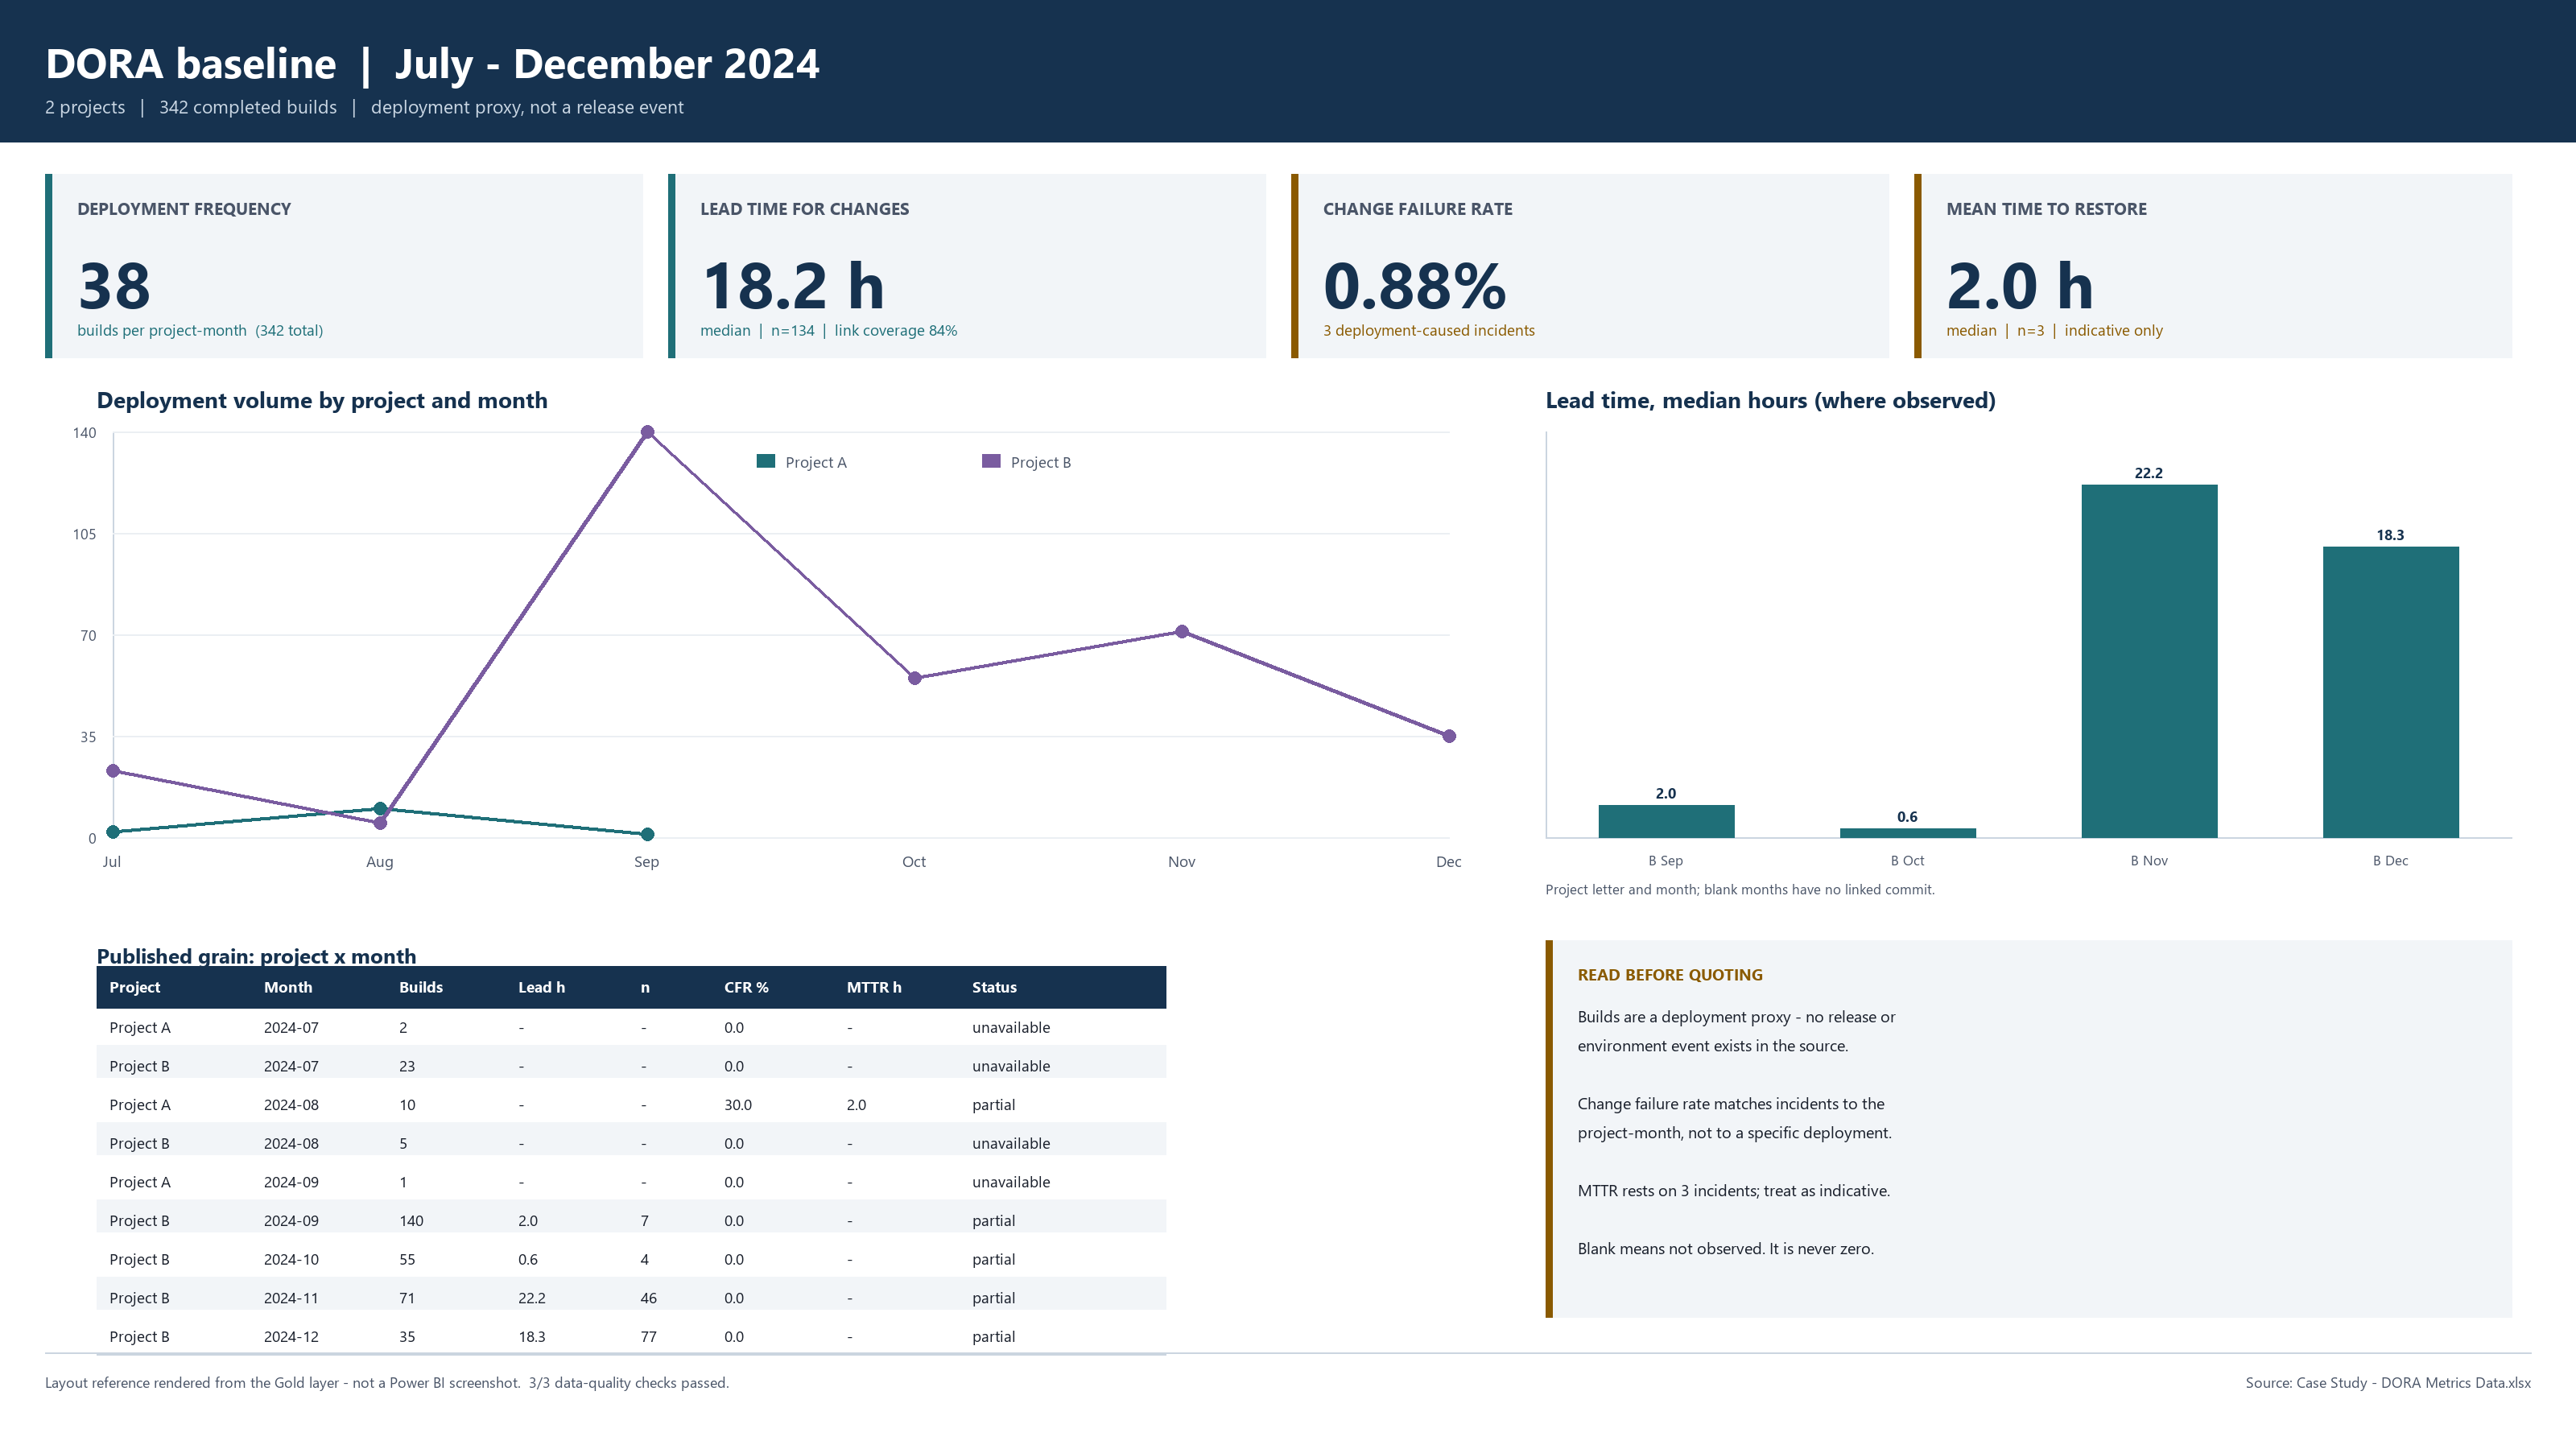

This screenshot's page, from the dashboard's own definition file:
{"tool":"powerbi","page":{"name":"DORA baseline","canvas":[1920,1080],"ordinal":0},"visuals":[{"type":"textbox","box":[0,0,1920,105],"z":0},{"type":"textbox","box":[30,16,1350,46],"z":1},{"type":"textbox","box":[30,62,1860,34],"z":2},{"type":"card","fields":{"Values":["DoraServiceMonth.Deployment Frequency (per project-month)"]},"box":[30,123,453,144],"z":10},{"type":"card","fields":{"Values":["DoraServiceMonth.Lead Time for Changes (median h)"]},"box":[489,123,453,144],"z":11},{"type":"card","fields":{"Values":["DoraServiceMonth.Change Failure Rate %"]},"box":[948,123,453,144],"z":12},{"type":"card","fields":{"Values":["DoraServiceMonth.MTTR (median h)"]},"box":[1407,123,453,144],"z":13},{"type":"lineChart","title":"Deployment volume by project and month","fields":{"Category":["DoraServiceMonth.month_start"],"Series":["DoraServiceMonth.project_name"],"Y":["DoraServiceMonth.Deployments"]},"box":[30,288,1050,288],"z":20},{"type":"columnChart","title":"Lead time, median hours (where observed)","fields":{"Category":["FactCommitLink.reporting_month"],"Y":["DoraServiceMonth.Lead Time for Changes (median h)"]},"box":[1104,288,786,288],"z":21},{"type":"tableEx","title":"Published grain: project x month (page 2 has every column)","fields":{"Values":["DoraServiceMonth.project_name","DoraServiceMonth.reporting_month","DoraServiceMonth.deployment_count","DoraServiceMonth.lead_time_median_hours","DoraServiceMonth.lead_time_sample_size","DoraServiceMonth.change_failure_rate_pct","DoraServiceMonth.mttr_median_hours","DoraServiceMonth.mttr_sample_size","DoraServiceMonth.data_quality_status"]},"box":[30,597,1050,294],"z":22},{"type":"textbox","box":[1104,597,786,294],"z":23},{"type":"textbox","box":[30,909,1860,40],"z":24}]}

Visuals, with their boxes in screenshot pixels (x1, y1, x2, y2), scaled from the page's 1920x1080 canvas onto the 2576x1449 screenshot:
textbox: <region>0, 0, 2575, 141</region>
textbox: <region>40, 22, 1851, 83</region>
textbox: <region>40, 83, 2536, 129</region>
card - DoraServiceMonth.Deployment Frequency (per project-month): <region>40, 165, 648, 358</region>
card - DoraServiceMonth.Lead Time for Changes (median h): <region>656, 165, 1264, 358</region>
card - DoraServiceMonth.Change Failure Rate %: <region>1272, 165, 1880, 358</region>
card - DoraServiceMonth.MTTR (median h): <region>1888, 165, 2495, 358</region>
"Deployment volume by project and month" lineChart: <region>40, 386, 1449, 773</region>
"Lead time, median hours (where observed)" columnChart: <region>1481, 386, 2536, 773</region>
"Published grain: project x month (page 2 has every column)" tableEx: <region>40, 801, 1449, 1195</region>
textbox: <region>1481, 801, 2536, 1195</region>
textbox: <region>40, 1220, 2536, 1274</region>
